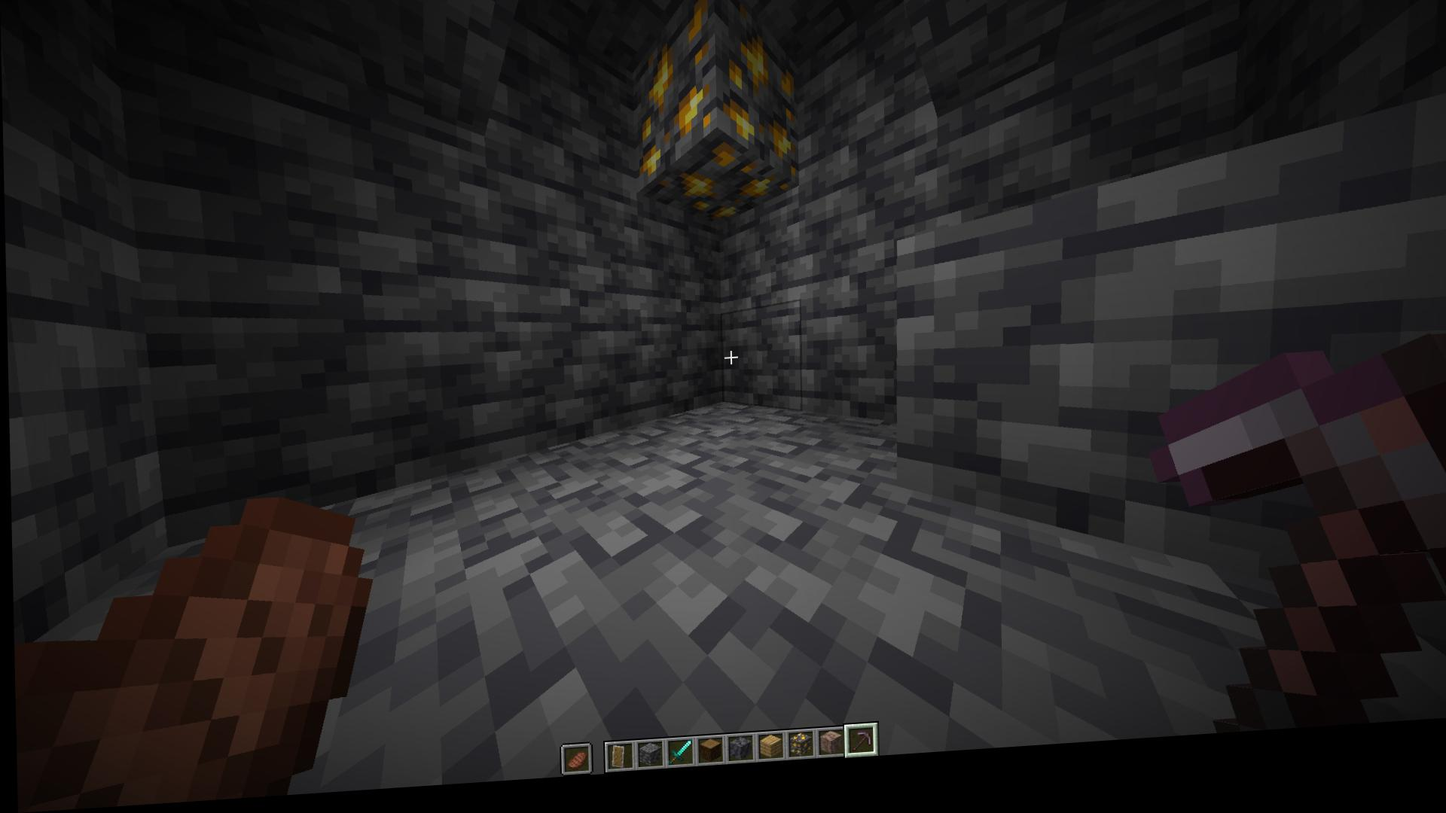gold ore: (711, 0, 809, 178), (624, 5, 712, 186), (654, 153, 781, 230)
